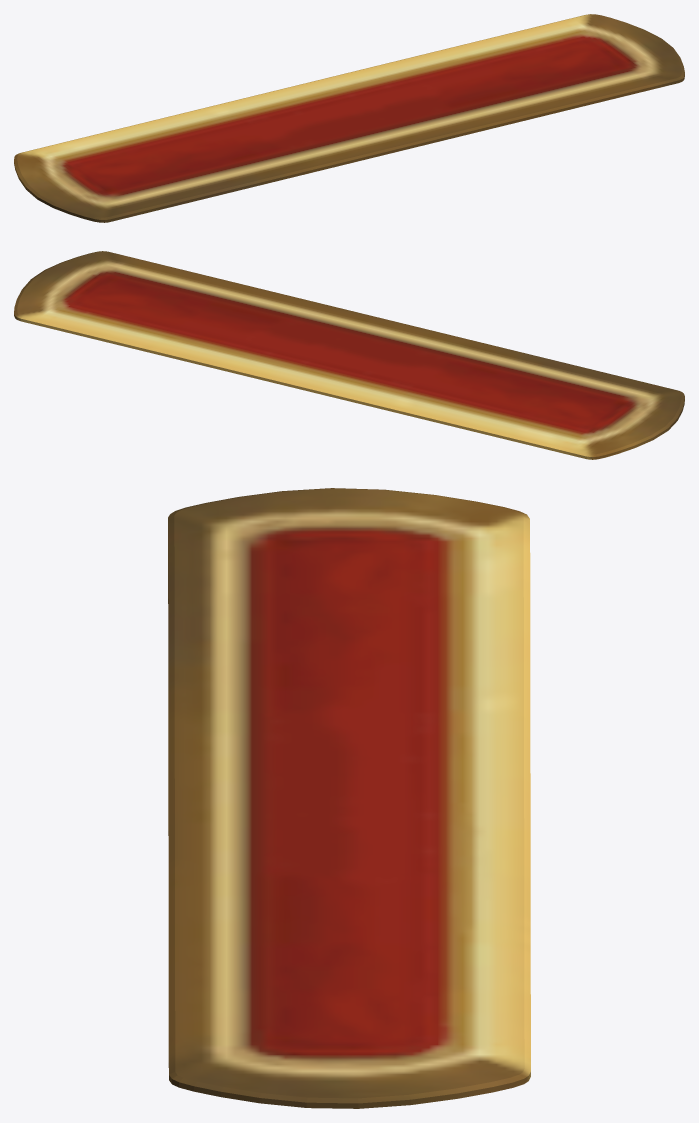
The model's file is Button_Concede.glb.
3 views of the same model, one above another, from view 1: azimuth 30°, elevation 25°; view 2: azimuth 150°, elevation 25°; view 3: azimuth 270°, elevation 25° (orthographic). The views are drawn at different scales.
Parts seen in each view (by area): view 1: Options; view 2: Options; view 3: Options.
Boxes of the visible parts, x1=… form: Options: x1=14, y1=14, x2=684, y2=222; Options: x1=14, y1=251, x2=684, y2=459; Options: x1=168, y1=488, x2=530, y2=1108.
Size of the model in its own units: 3.41 by 0.02 by 0.85.
Materials: 1 (1 with a texture image).
